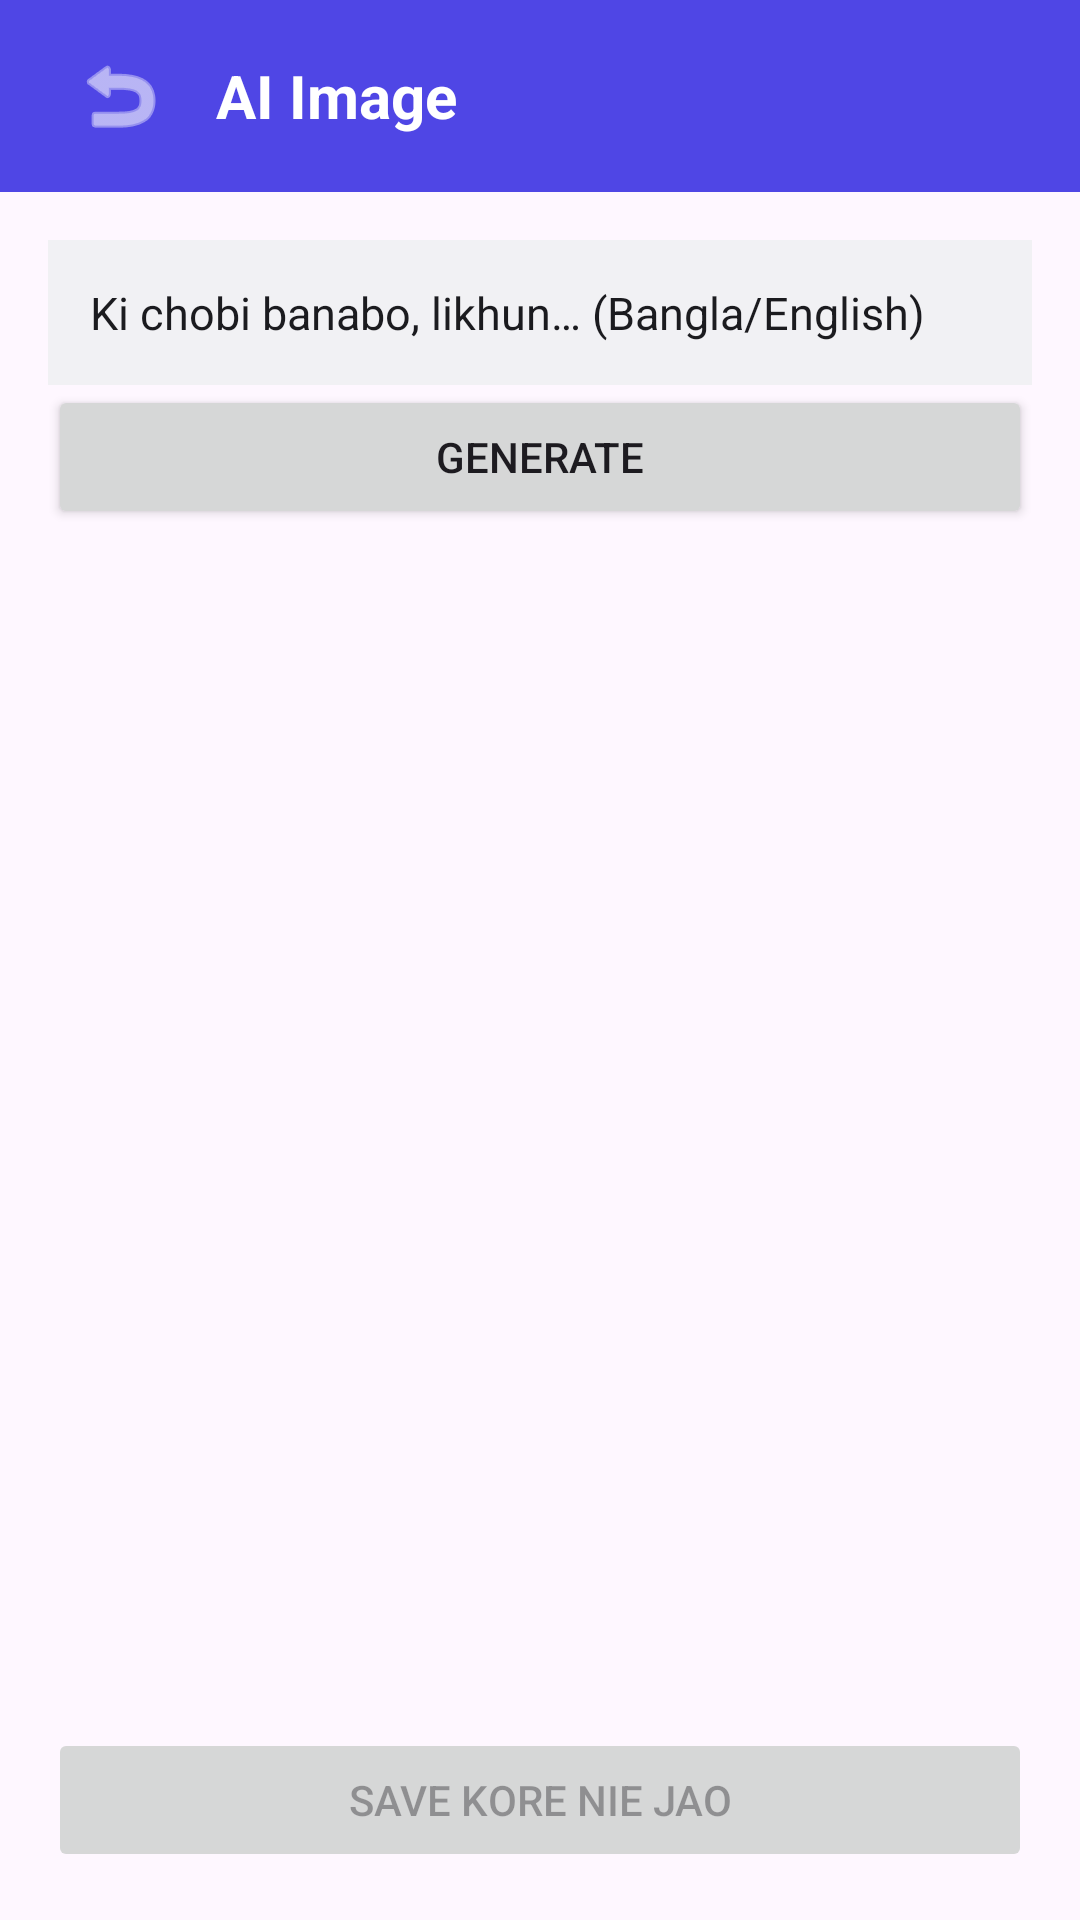

Screen size 1080*1920. Icon name, then its center in pixels as [x,y]:
revert: [121,96]
